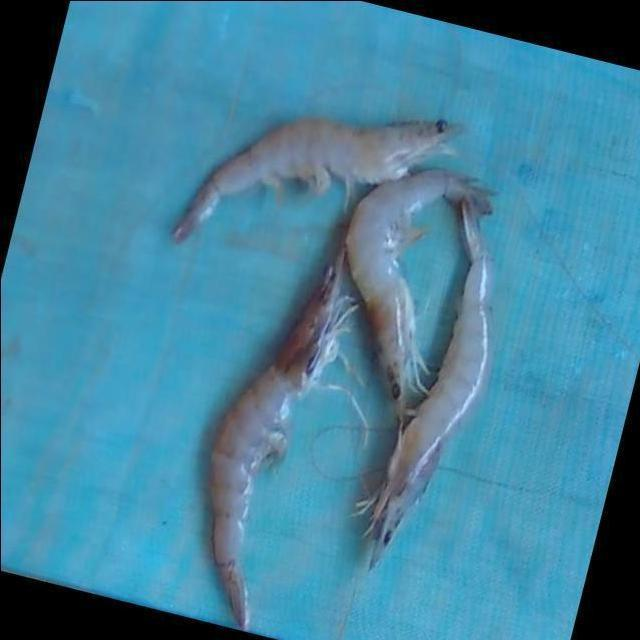shrimp: (209, 244, 354, 629), (371, 198, 493, 569), (346, 168, 497, 419), (173, 117, 450, 243)
